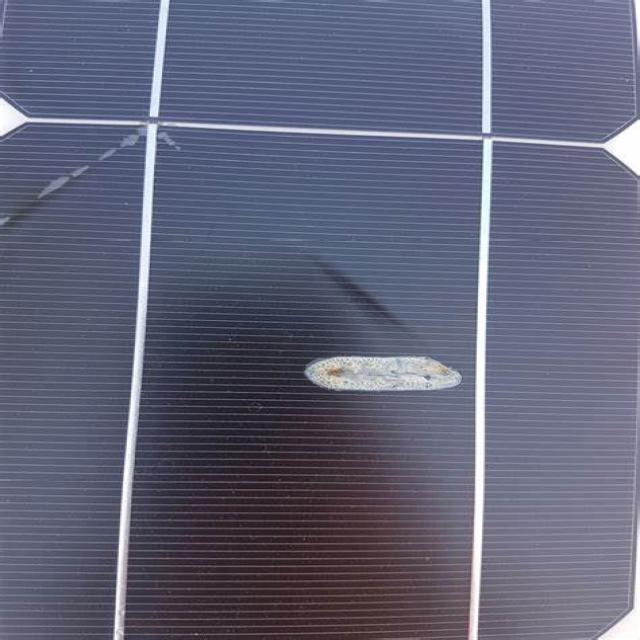Electrical-damage: (0, 85, 233, 262), (308, 341, 468, 412)
